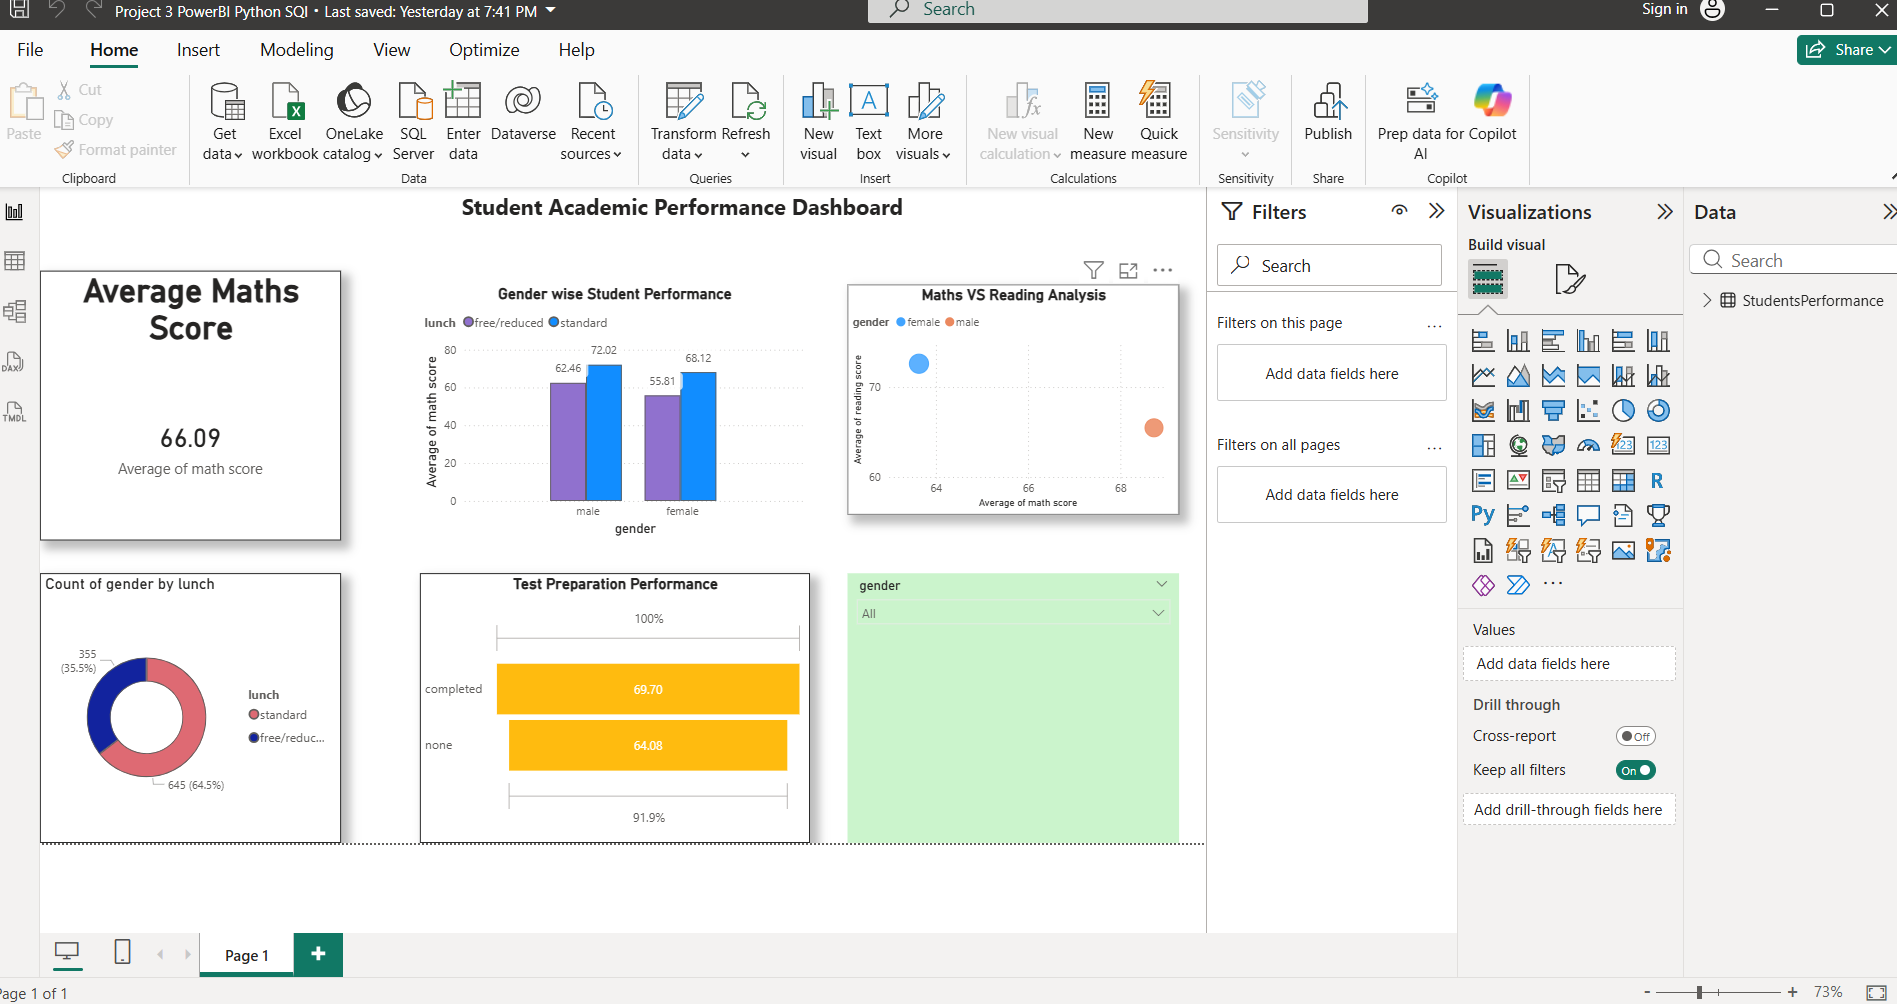

This screenshot's page, from the dashboard's own definition file:
{"tool":"powerbi","page":{"name":"Page 1","canvas":[1280,720],"ordinal":0},"visuals":[{"type":"card","title":"Average Maths Score","fields":{"Values":["Avg(StudentsPerformance.math score)"]},"box":[0,91.9,330.7,296.4],"z":0},{"type":"textbox","box":[452.8,0,575,135.8],"z":1},{"type":"lineClusteredColumnComboChart","title":"Gender wise Student Performance","fields":{"Category":["StudentsPerformance.gender"],"Y":["Avg(StudentsPerformance.math score)"],"Series":["StudentsPerformance.lunch"]},"box":[417.2,107,428.1,281.3],"z":2},{"type":"scatterChart","title":"Maths VS Reading Analysis","fields":{"X":["Avg(StudentsPerformance.math score)"],"Y":["Avg(StudentsPerformance.reading score)"],"Series":["StudentsPerformance.gender"],"Size":["Avg(StudentsPerformance.writing score)"],"Category":["StudentsPerformance.gender"]},"box":[886.5,107,363.6,252.5],"z":3},{"type":"donutChart","fields":{"Category":["StudentsPerformance.lunch"],"Y":["CountNonNull(StudentsPerformance.gender)"]},"box":[0,424,330.7,296.4],"z":4},{"type":"funnel","title":"Test Preparation Performance","fields":{"Category":["StudentsPerformance.test preparation course"],"Y":["Avg(StudentsPerformance.math score)"]},"box":[417,424,428,296],"z":5},{"type":"slicer","fields":{"Values":["StudentsPerformance.gender"]},"box":[886,424,364,296],"z":6}]}

Visuals, with their boxes on the page's 1280x720 design canvas (x1, y1, x2, y2). These are canvas units, not pixel positions in the 1897x1004 screenshot, which may show the page scaled, cropped or inside an application window:
"Average Maths Score" card: (0, 92, 331, 388)
textbox: (453, 0, 1028, 136)
"Gender wise Student Performance" lineClusteredColumnComboChart: (417, 107, 845, 388)
"Maths VS Reading Analysis" scatterChart: (886, 107, 1250, 360)
donutChart - StudentsPerformance.lunch x CountNonNull(StudentsPerformance.gender): (0, 424, 331, 720)
"Test Preparation Performance" funnel: (417, 424, 845, 720)
slicer - StudentsPerformance.gender: (886, 424, 1250, 720)
